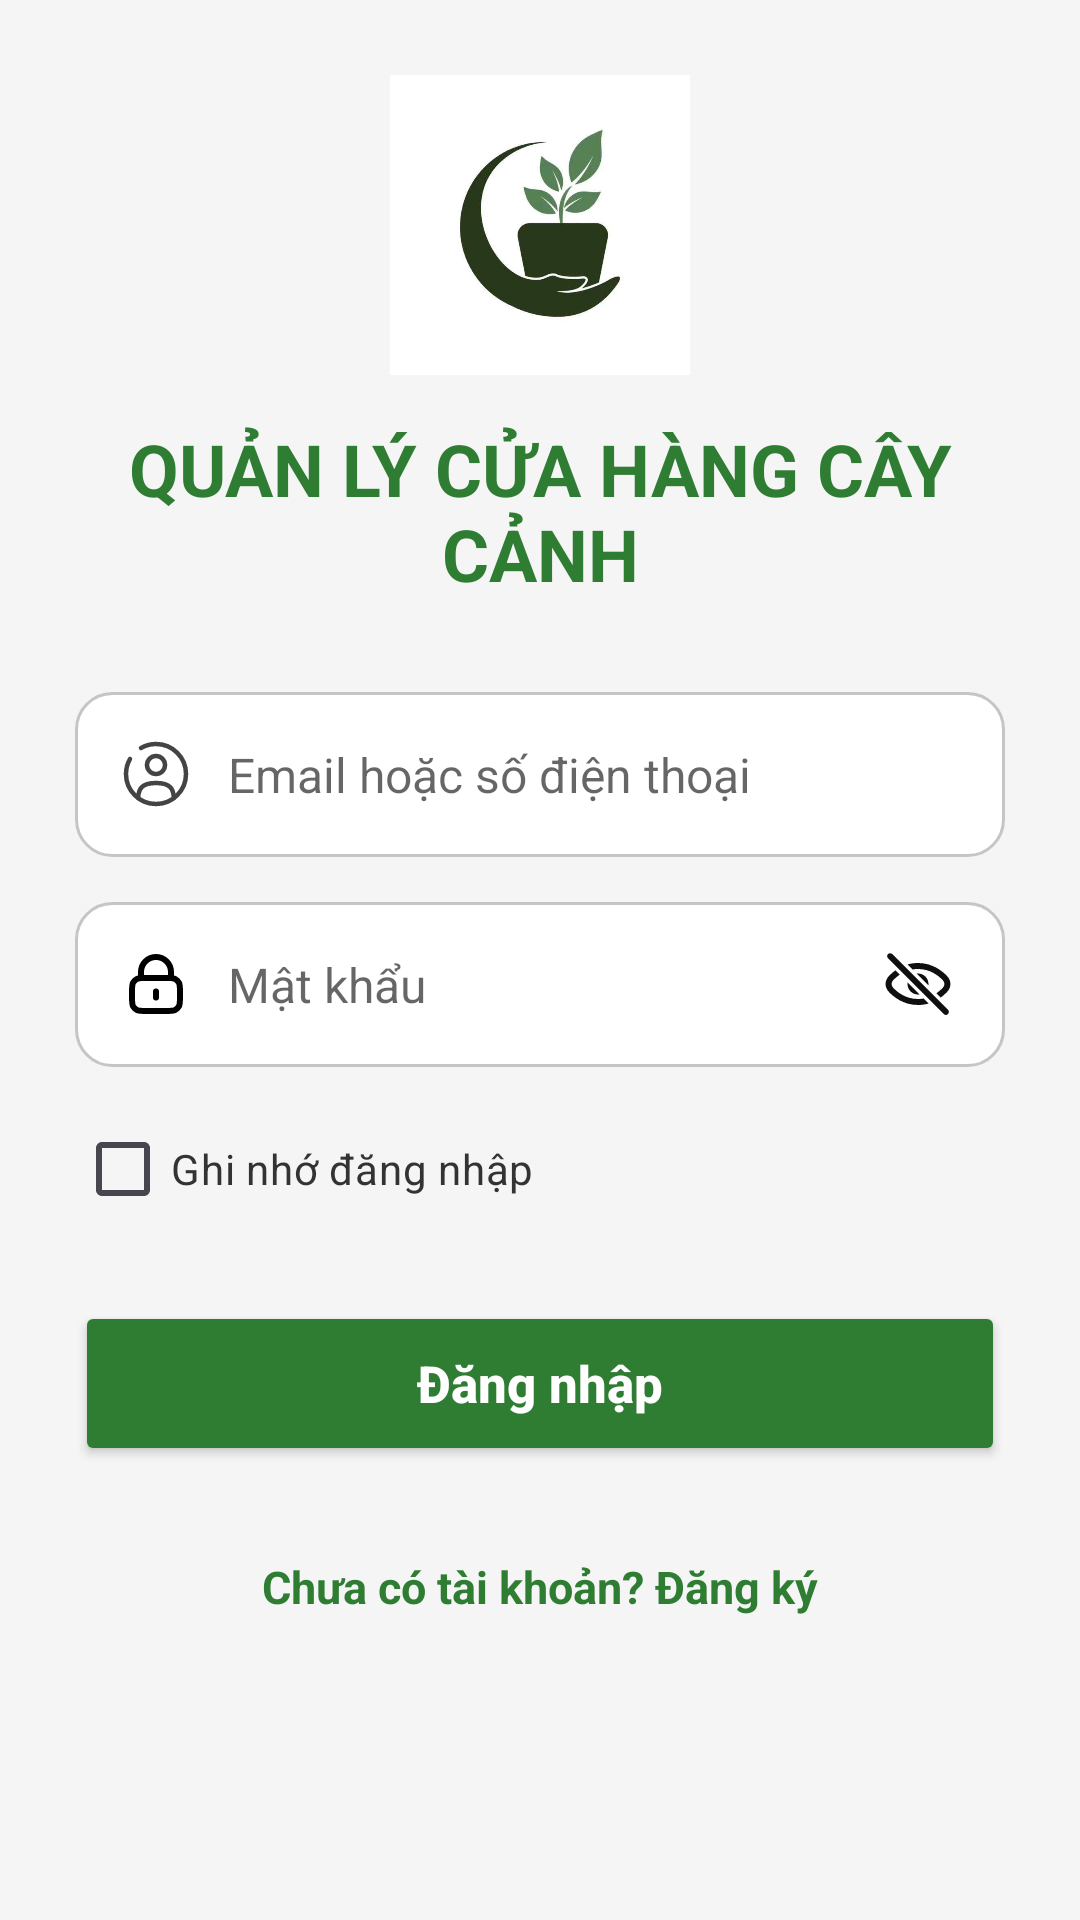

Where icons sit on this 1080*1920 app screen, as region(x1, y1, x2, y2):
Ổ khóa: region(129, 954, 183, 1014)
